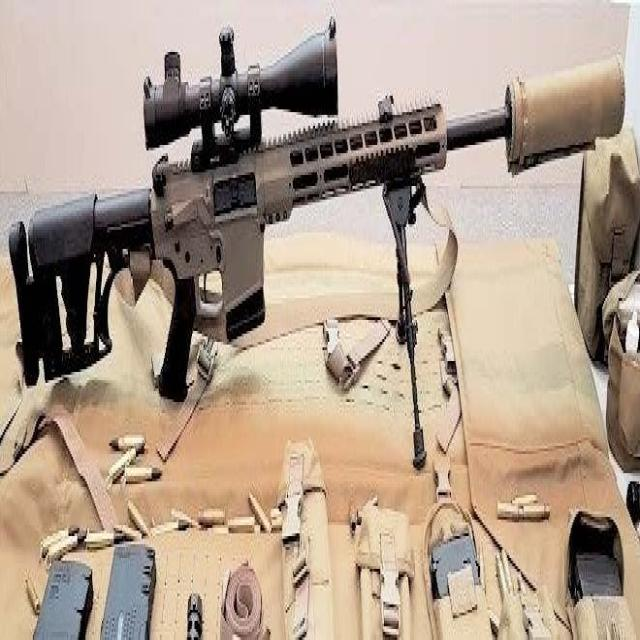Rifle: (8, 22, 626, 405)
